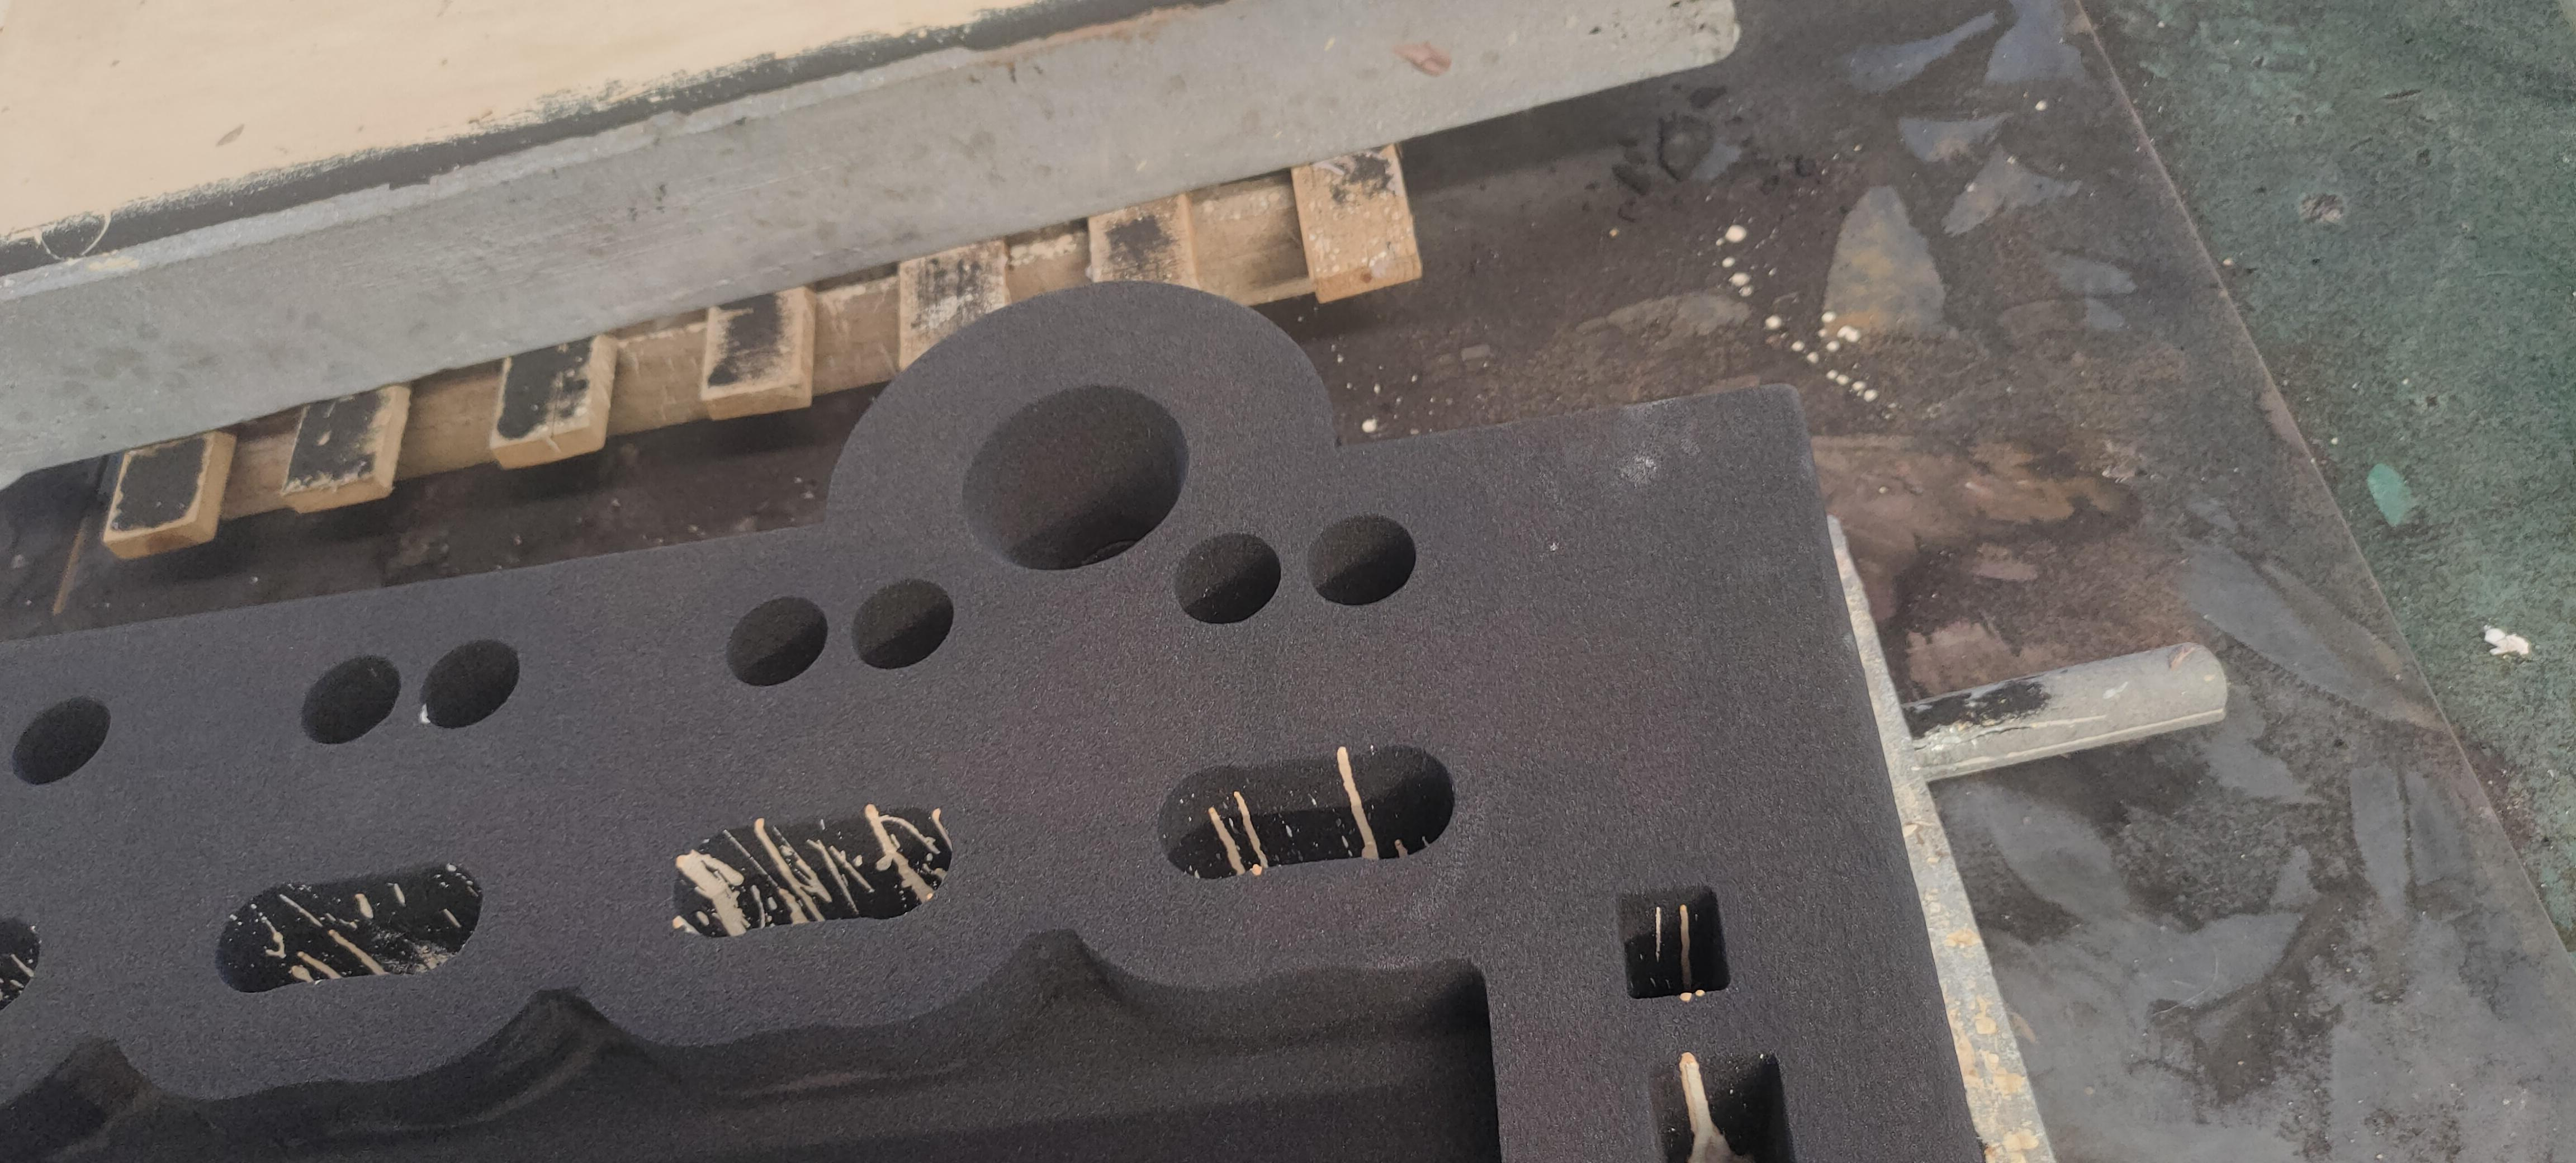pouring hole: (959, 383, 1189, 573)
